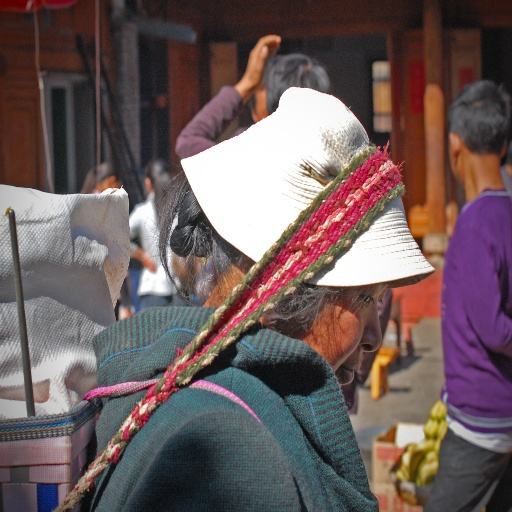hand: (226, 32, 277, 100), (139, 252, 156, 272)
